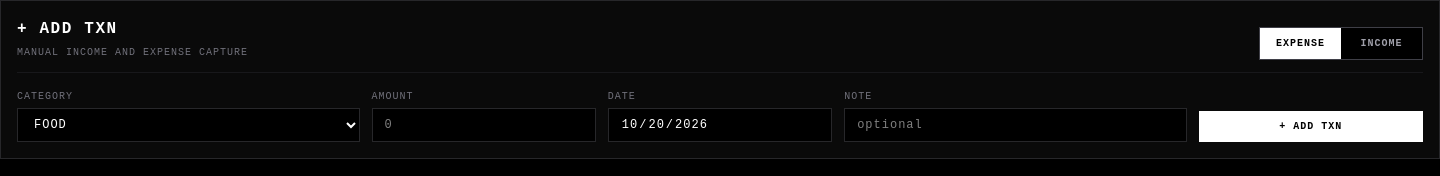
AddTransactionPanel › blocks a missing amount
Step 1. Click the button "+ Add Txn" → {"x": 1311, "y": 126}, box 1199,111 -> 1423,142
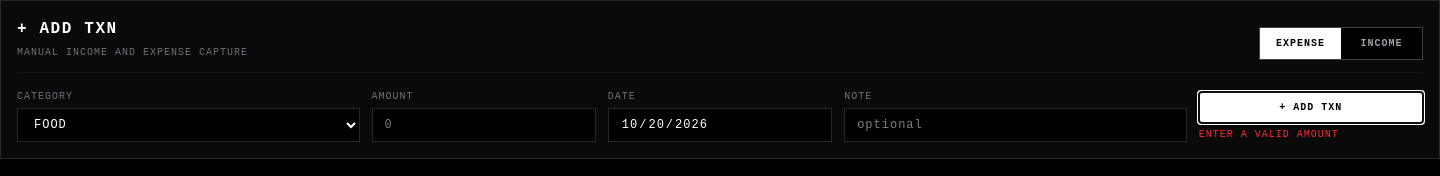
Now the text "Enter a valid amount" is shown, box 1199,129 -> 1339,140
